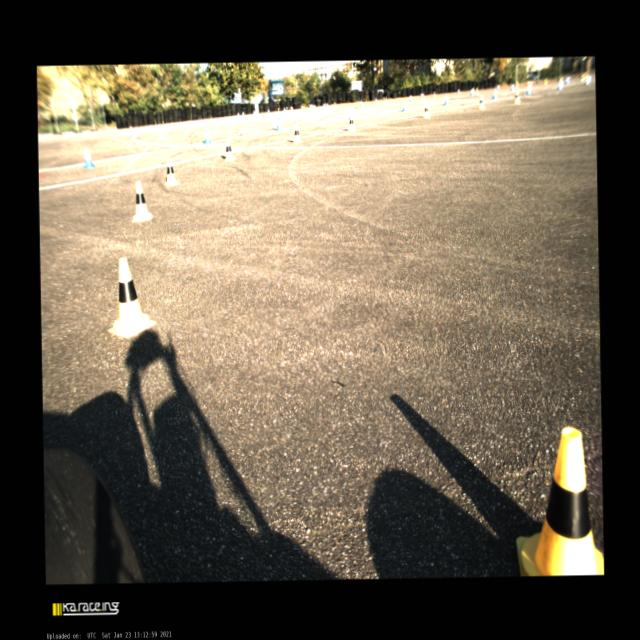blue_cone: (82, 146, 95, 166), (203, 126, 211, 144), (275, 116, 282, 130), (492, 88, 498, 100), (348, 106, 354, 118), (402, 100, 408, 111), (526, 84, 530, 95), (444, 95, 448, 105), (558, 80, 562, 90), (408, 94, 412, 102), (510, 82, 514, 90), (566, 76, 570, 84), (290, 106, 294, 112), (359, 98, 362, 106), (470, 88, 473, 96), (237, 111, 240, 117), (457, 88, 460, 94), (496, 84, 499, 90), (242, 110, 244, 118), (283, 106, 285, 114), (374, 97, 377, 102), (326, 101, 328, 108), (252, 110, 255, 114), (268, 108, 270, 114), (322, 104, 324, 110), (420, 92, 422, 97), (384, 96, 386, 100)
yellow_cone: (514, 426, 604, 576), (106, 257, 156, 338), (130, 180, 152, 221), (163, 156, 180, 186), (222, 138, 235, 160), (292, 123, 302, 144), (347, 115, 356, 132), (477, 92, 485, 110), (422, 103, 430, 118), (514, 89, 520, 104), (474, 86, 478, 95), (526, 80, 530, 88), (514, 81, 518, 88), (432, 90, 436, 96), (581, 74, 584, 82), (544, 78, 547, 84), (332, 100, 334, 106), (324, 102, 326, 106), (382, 96, 384, 100), (422, 92, 424, 96)
